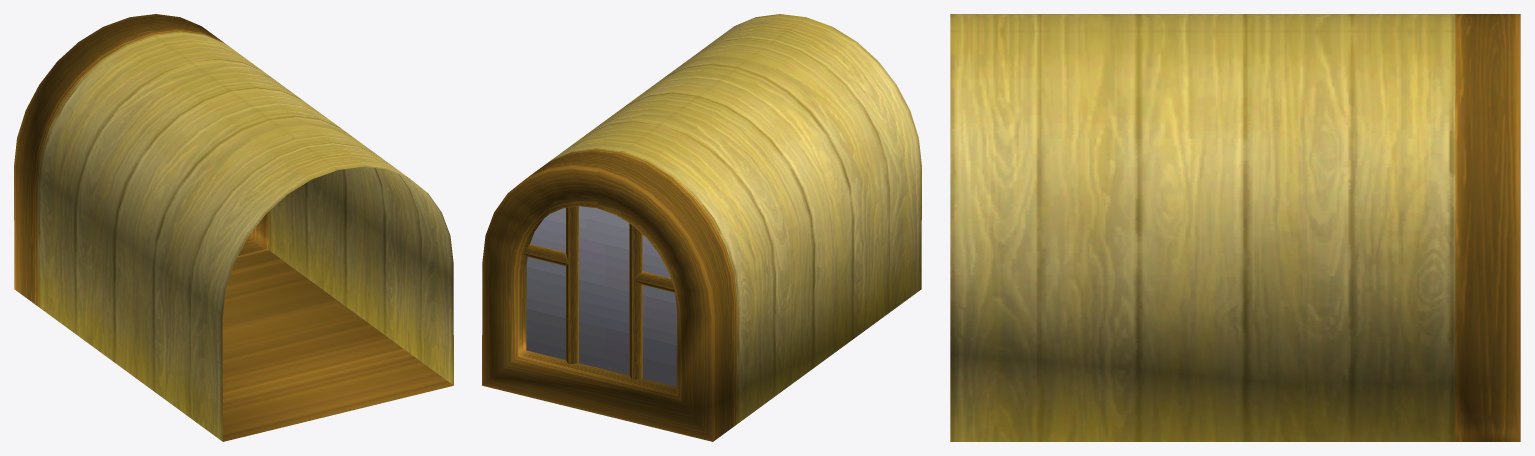
File: INST_HTOWN_WINDOWB.fbx
3 views of the same model, side by side, from view 1: azimuth 30°, elevation 25°; view 2: azimuth 150°, elevation 25°; view 3: azimuth 270°, elevation 25° (orthographic). The views are drawn at different scales.
Parts seen in each view (by area): view 1: INST_HTOWN_WINDOWB; view 2: INST_HTOWN_WINDOWB; view 3: INST_HTOWN_WINDOWB.
Boxes of the visible parts, <box> form: INST_HTOWN_WINDOWB: <box>14,14,453,441</box>; INST_HTOWN_WINDOWB: <box>482,14,921,441</box>; INST_HTOWN_WINDOWB: <box>950,14,1520,441</box>.
Size of the model in its own units: 8281 by 8346 by 12933.
Materials: 4 (4 with a texture image).
